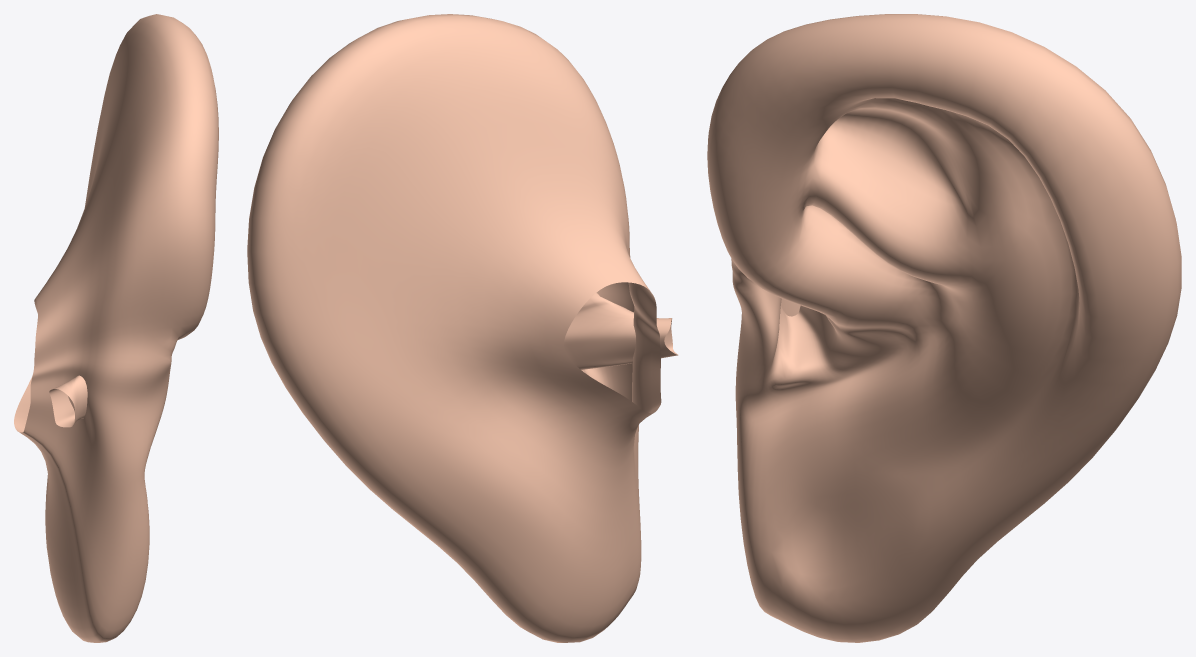
The model's file is earfab.fbx.
The picture shows the model from 3 angles, left to right: view 1: azimuth 30°, elevation 25°; view 2: azimuth 150°, elevation 25°; view 3: azimuth 270°, elevation 25°; orthographic projection. The views are drawn at different scales.
Parts seen in each view (by area): view 1: ear; view 2: ear; view 3: ear.
Part boxes in pixels (bbox=[...]): ear: bbox=[14, 14, 218, 642]; ear: bbox=[247, 14, 678, 642]; ear: bbox=[707, 14, 1181, 642].
Bounding box in the file's own units: 19.54 × 39.92 × 24.49.
